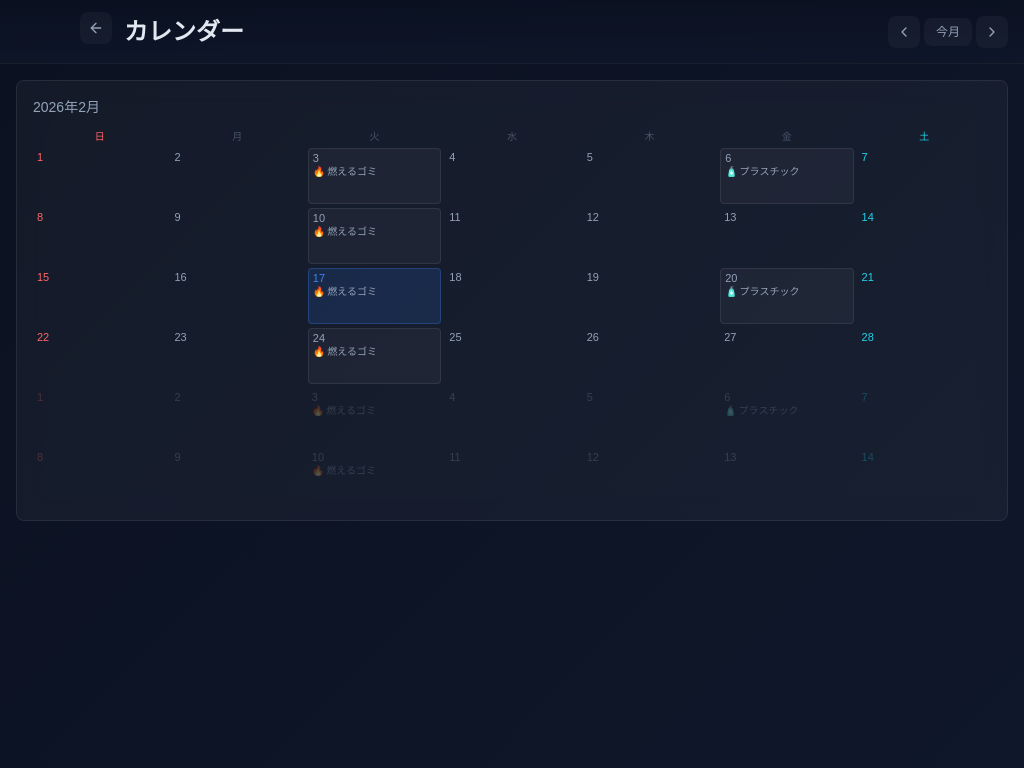
MonthlyCalendar › 月ナビゲーション › 前月ボタンで前月に移動する
expect the heading "2026年2月" is shown: met, box [33,99,100,115]
What coordinates should you click on to do the following:
click the button named "前月"
I would click on:
 (904, 32)
Its box is [888,16,920,48].
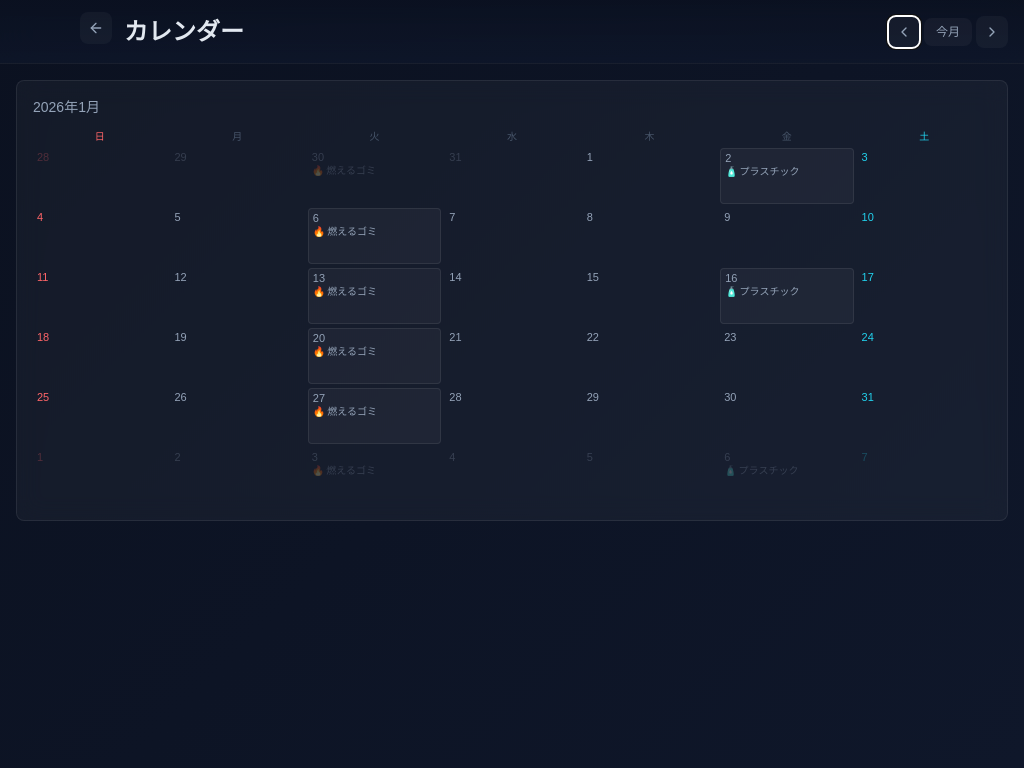
expect the heading "2026年1月" is shown: met, box [33,99,100,115]
expect the heading "2026年2月" is gone: met
